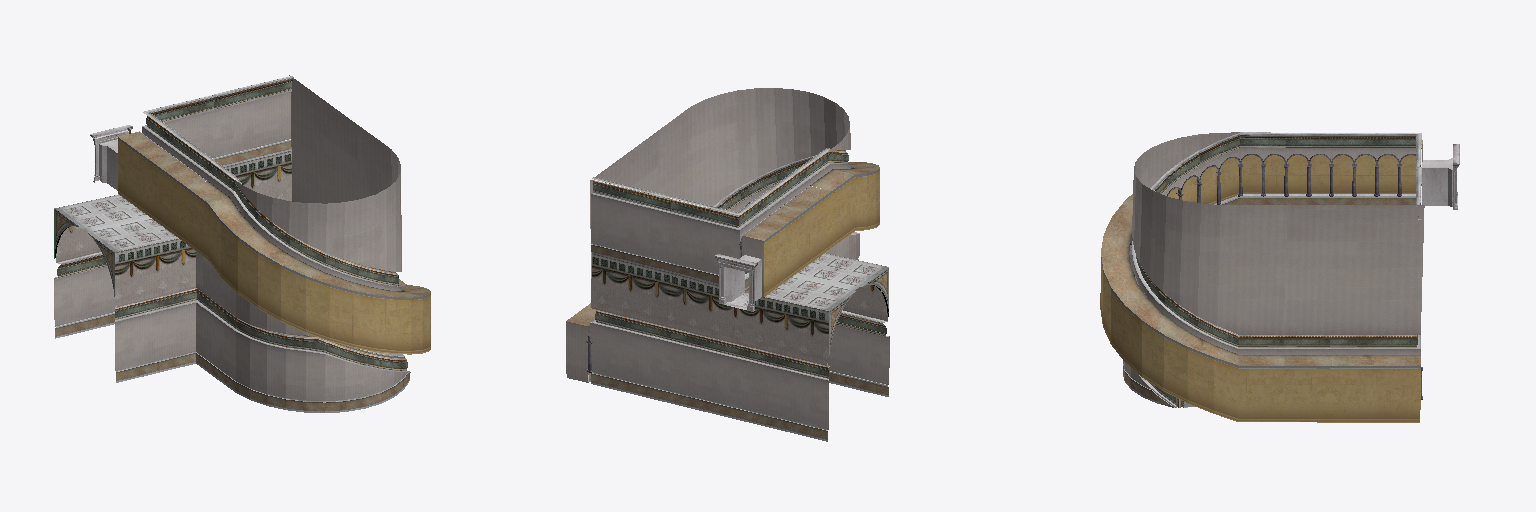
The picture shows the model from 3 angles: view 1: azimuth 30°, elevation 25°; view 2: azimuth 150°, elevation 25°; view 3: azimuth 270°, elevation 25°; orthographic projection.
Parts seen in each view (by area): view 1: Object017, Object015, Object018, Door009; view 2: Object017, Object018, Object015, Door009; view 3: Object017, Object015, Object016, Door009.
Part boxes in pixels (bbox=[...]): Object017: bbox=[54, 75, 430, 412]; Object015: bbox=[118, 137, 430, 354]; Object018: bbox=[54, 151, 291, 306]; Door009: bbox=[90, 125, 132, 190]; Object017: bbox=[566, 88, 889, 441]; Object018: bbox=[591, 253, 888, 365]; Object015: bbox=[764, 169, 879, 296]; Door009: bbox=[714, 254, 761, 311]; Object017: bbox=[1101, 132, 1424, 409]; Object015: bbox=[1100, 155, 1420, 422]; Object016: bbox=[1129, 154, 1422, 399]; Door009: bbox=[1422, 144, 1459, 209].
Bounding box in the file's own units: 20.5 × 15.28 × 24.26.
5 materials, 5 textured.